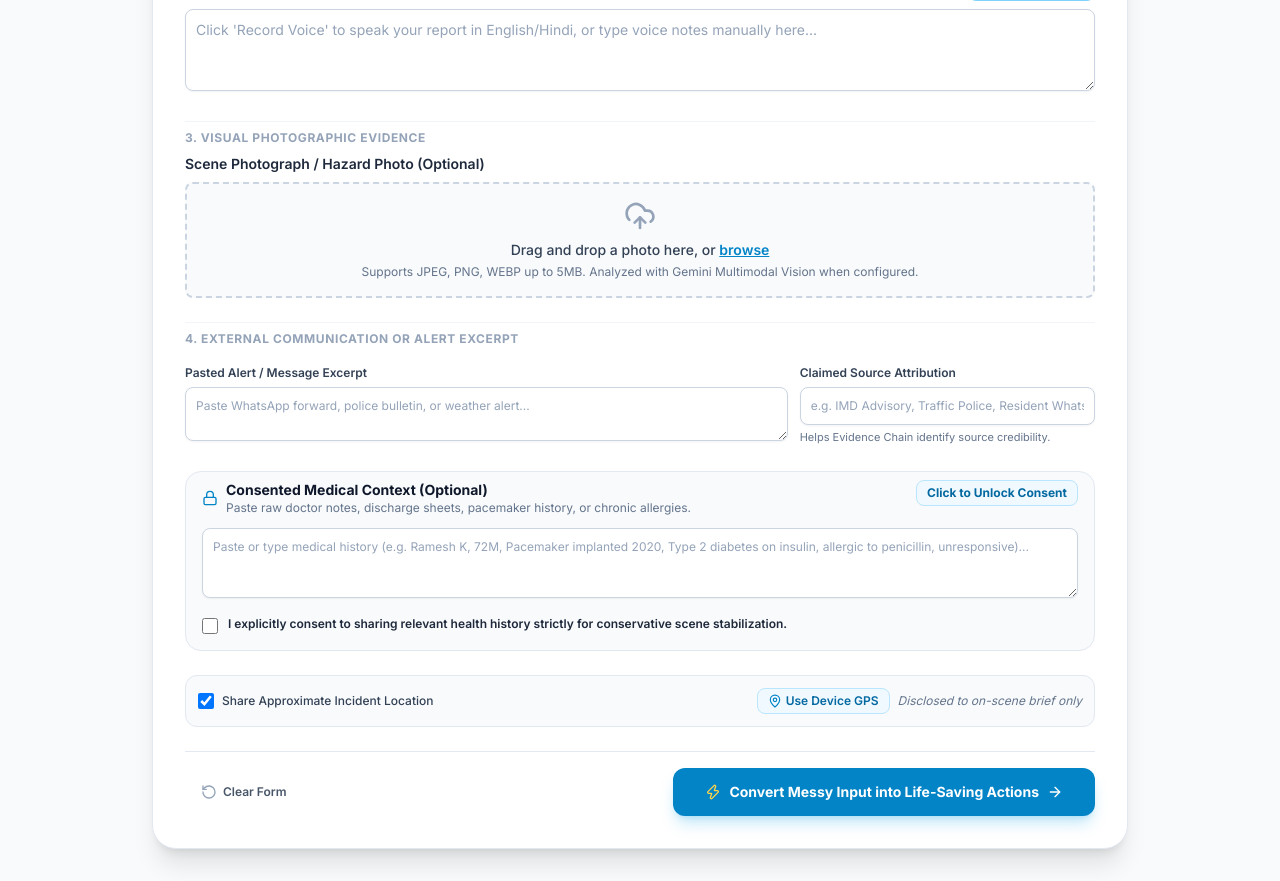
UI Component Tests › SubmitIncident renders all 6 unstructured real-world input presets and unlocks medical context on focus
This screenshot has width=1280, height=881.
(page scrolled)
Verify medical context can be unlocked without disabled/non-clickable blocks
What coordinates should you click on to do the following:
click the button "Click to Unlock Consent"
I would click on:
 (997, 493)
Its box is [916,480,1078,506].
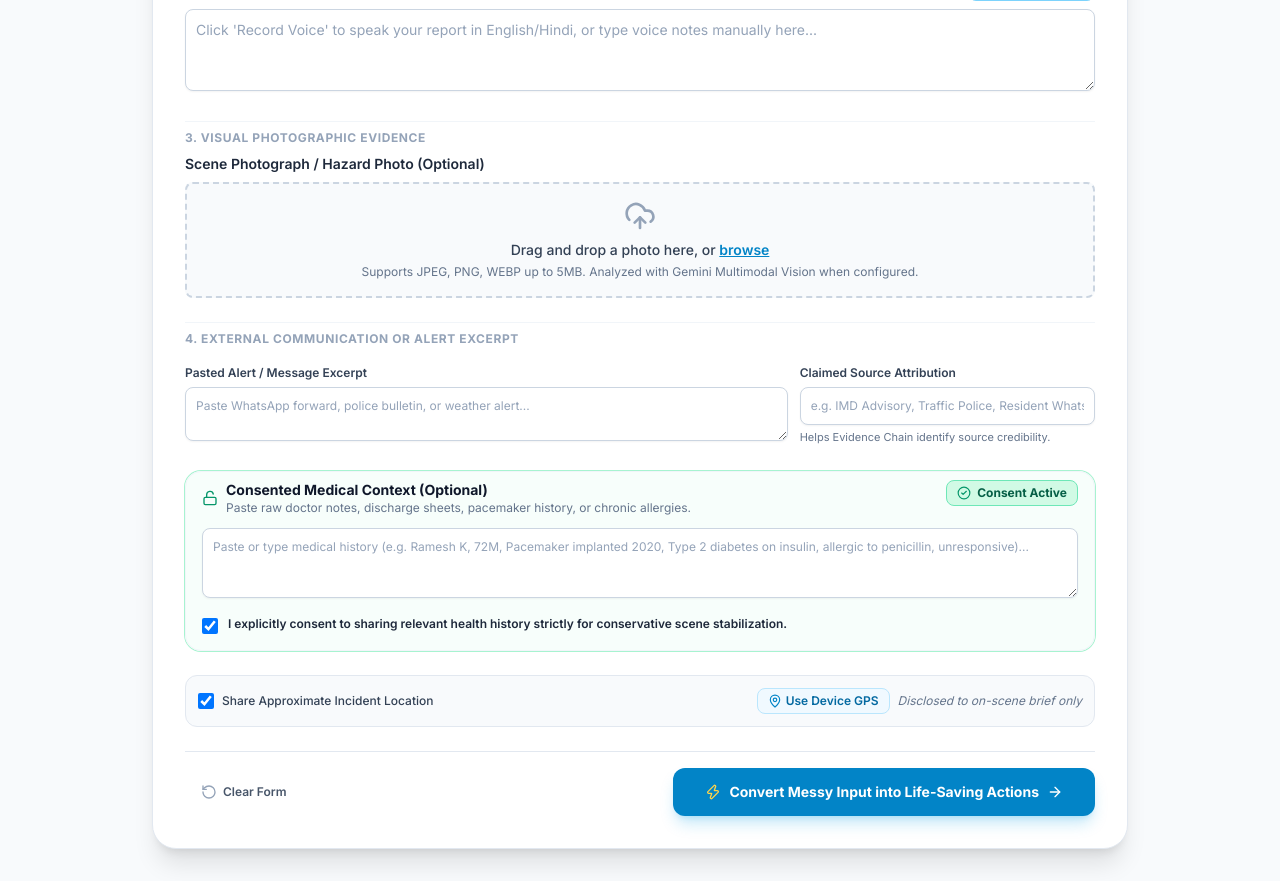
Check: the text "Consent Active" is shown, box [977,485,1067,501]
